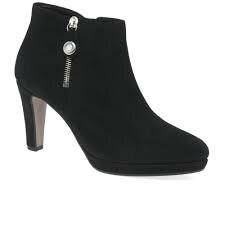Ankle boots: (11, 1, 213, 179)
